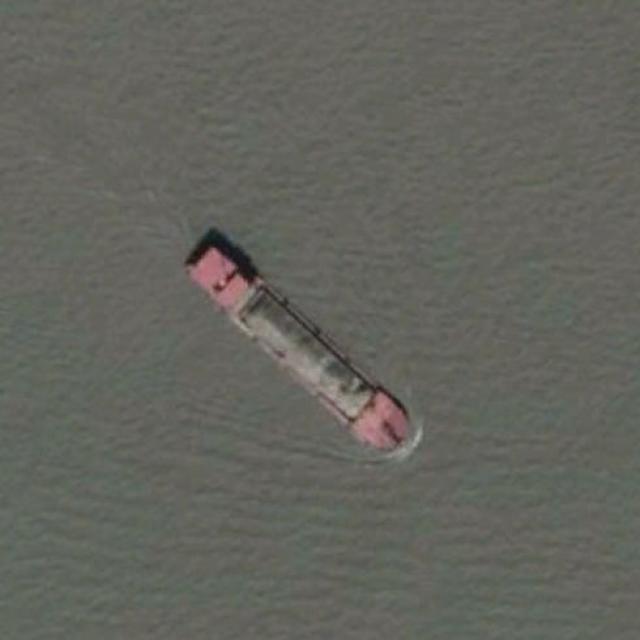ship: (182, 229, 410, 453)
